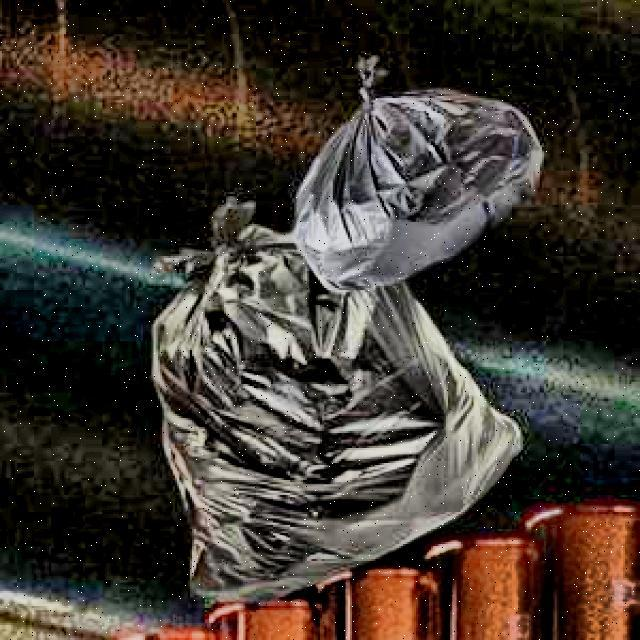Trashbag: (144, 183, 526, 601), (289, 51, 551, 300)
